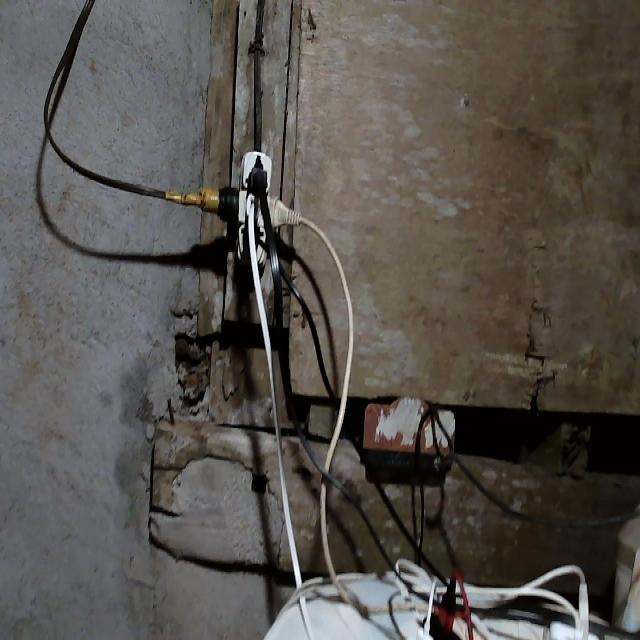-: (208, 145, 299, 267)
